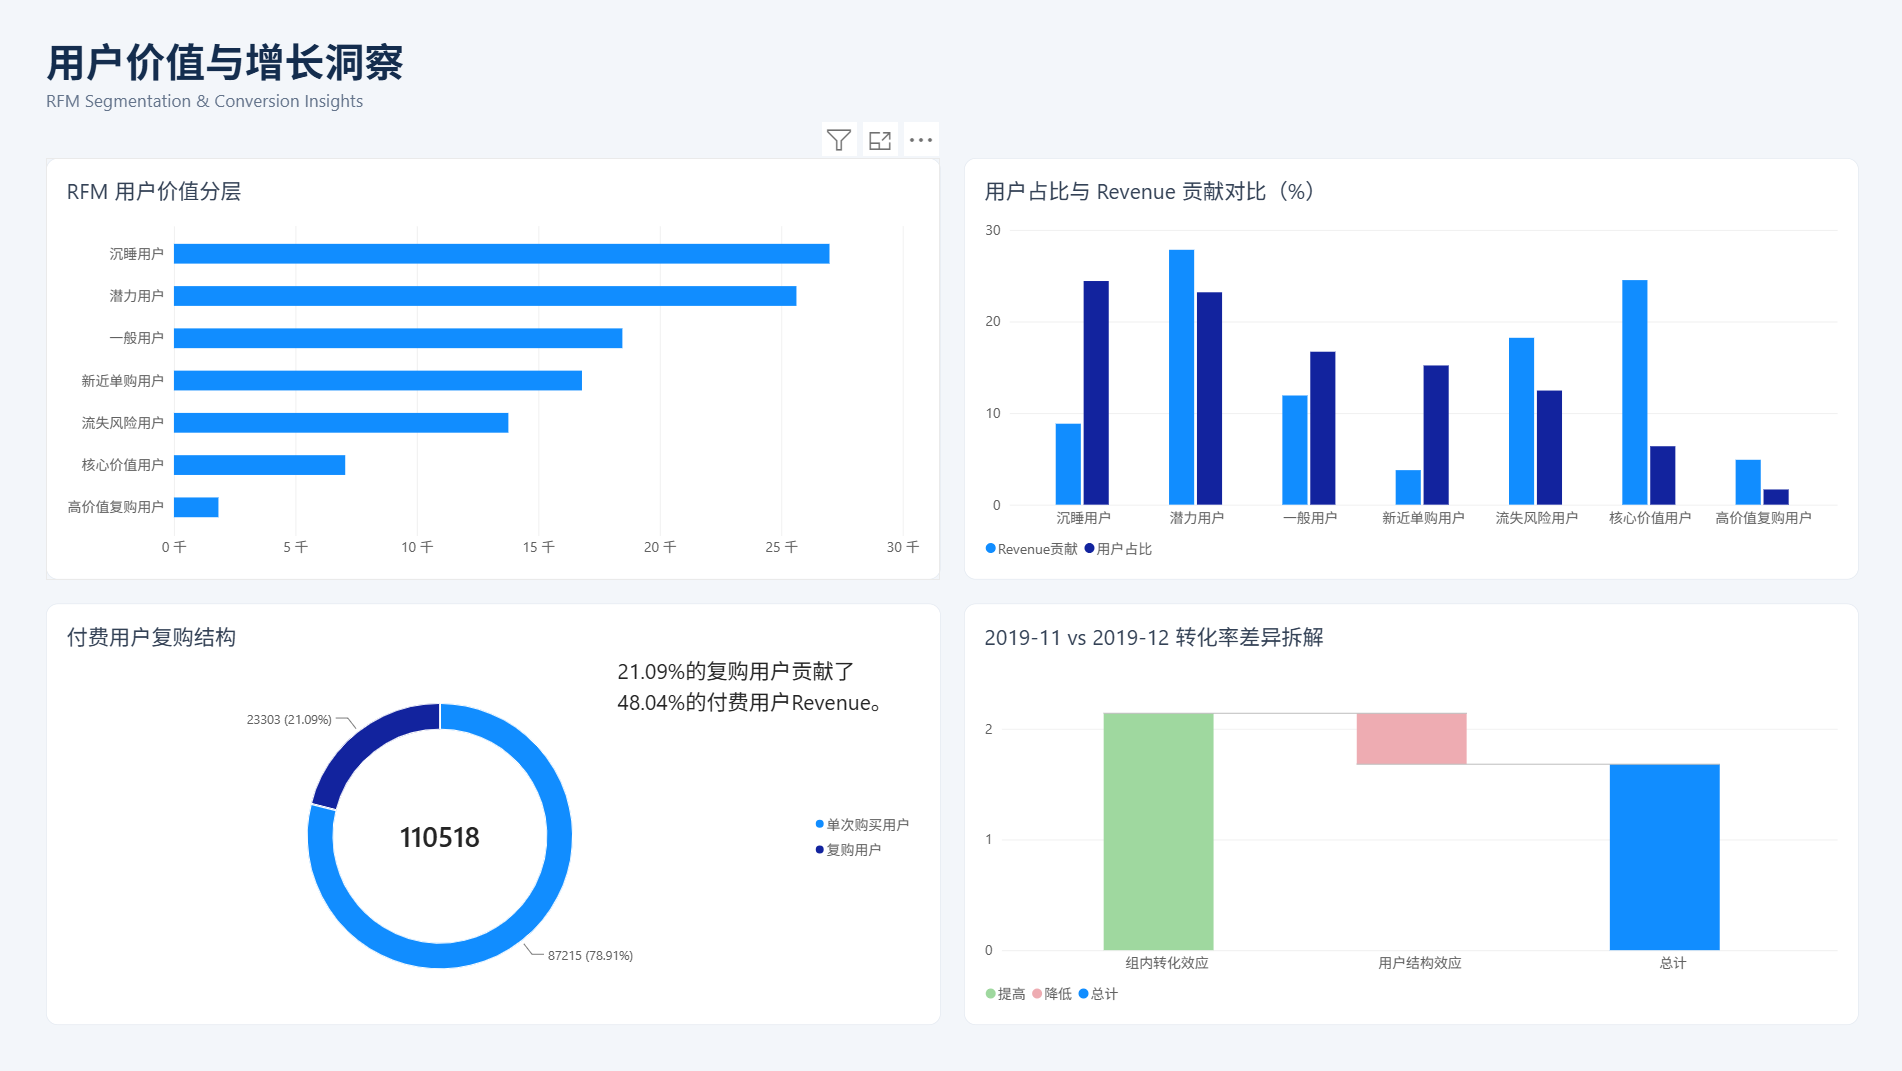

Layout of this report page (visuals, bound fields, positions):
{"tool":"powerbi","page":{"name":"04 价值与增长","canvas":[1920,1080],"ordinal":3},"visuals":[{"type":"barChart","title":"RFM 用户价值分层","fields":{"Category":["rfm_segment.user_segment"],"Y":["Sum(rfm_segment.users)"]},"box":[48,160,900,424],"z":0},{"type":"clusteredColumnChart","title":"用户占比与 Revenue 贡献对比（%）","fields":{"Category":["rfm_segment.user_segment"],"Y":["Sum(rfm_segment.revenue_share)","Sum(rfm_segment.user_share)"]},"box":[972,160,900,424],"z":1},{"type":"donutChart","title":"付费用户复购结构","fields":{"Category":["user_behavior_analysis bi_repeat_purchase.purchase_type"],"Y":["Sum(user_behavior_analysis bi_repeat_purchase.users)"]},"box":[48,608,900,424],"z":2},{"type":"waterfallChart","title":"2019-11 vs 2019-12 转化率差异拆解","fields":{"Category":["表 (2).effect"],"Y":["Sum(表 (2).value)"]},"box":[972,608,900,424],"z":3},{"type":"textbox","box":[48,32,1824,104],"z":4},{"type":"textbox","box":[623.1,659.3,279.1,89],"z":5}]}

Visuals, with their boxes in screenshot pixels (x1, y1, x2, y2), scaled from the page's 1920x1080 canvas onto the 1902x1071 screenshot:
"RFM 用户价值分层" barChart: locate(48, 159, 939, 579)
"用户占比与 Revenue 贡献对比（%）" clusteredColumnChart: locate(963, 159, 1854, 579)
"付费用户复购结构" donutChart: locate(48, 603, 939, 1023)
"2019-11 vs 2019-12 转化率差异拆解" waterfallChart: locate(963, 603, 1854, 1023)
textbox: locate(48, 32, 1854, 135)
textbox: locate(617, 654, 894, 742)
